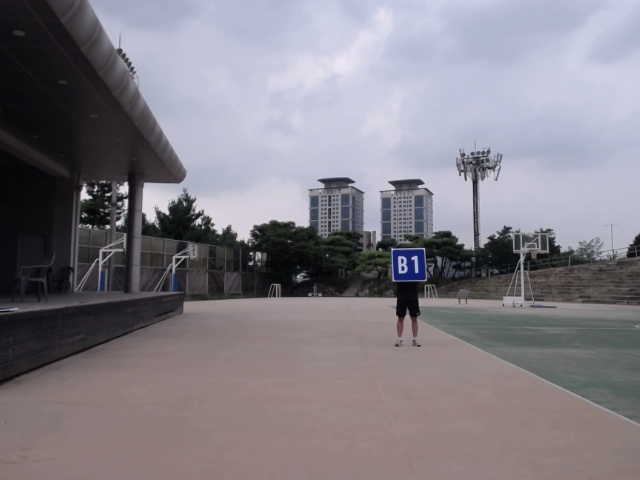delivery_b1: (391, 248, 427, 281)
